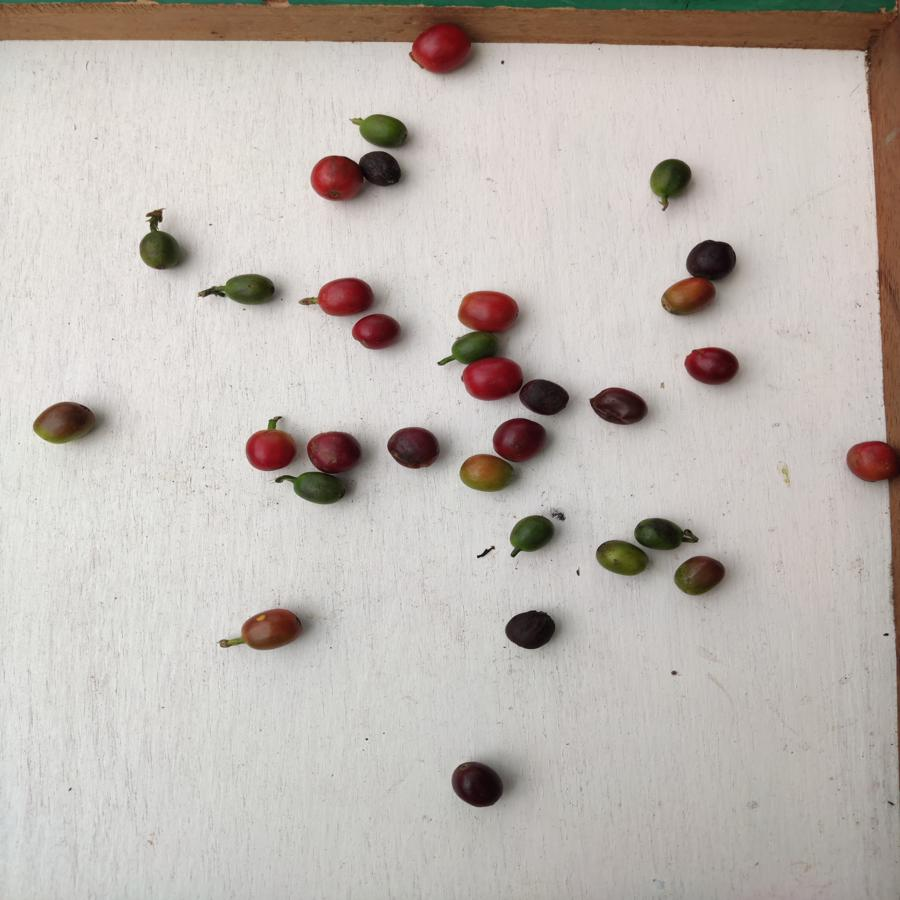Inmaduro: (289, 471, 350, 509), (355, 111, 411, 150), (220, 267, 276, 305), (136, 228, 184, 270), (506, 514, 559, 552), (649, 158, 693, 201), (633, 515, 687, 549), (448, 333, 500, 361)
Maduro: (406, 24, 476, 75), (306, 148, 362, 204), (459, 354, 523, 401), (454, 289, 519, 333), (244, 424, 299, 473), (848, 434, 900, 484), (318, 276, 378, 316), (351, 311, 403, 350)
Pinton: (33, 400, 103, 446), (241, 605, 308, 653), (658, 276, 721, 317), (590, 538, 653, 579), (457, 451, 518, 493), (670, 554, 729, 593)
Sobremaduro: (585, 385, 653, 427), (450, 759, 504, 811), (384, 424, 441, 471), (494, 415, 549, 463), (681, 343, 741, 387), (304, 429, 365, 471), (683, 234, 738, 276), (503, 609, 559, 650), (518, 380, 572, 417), (358, 150, 405, 190)
